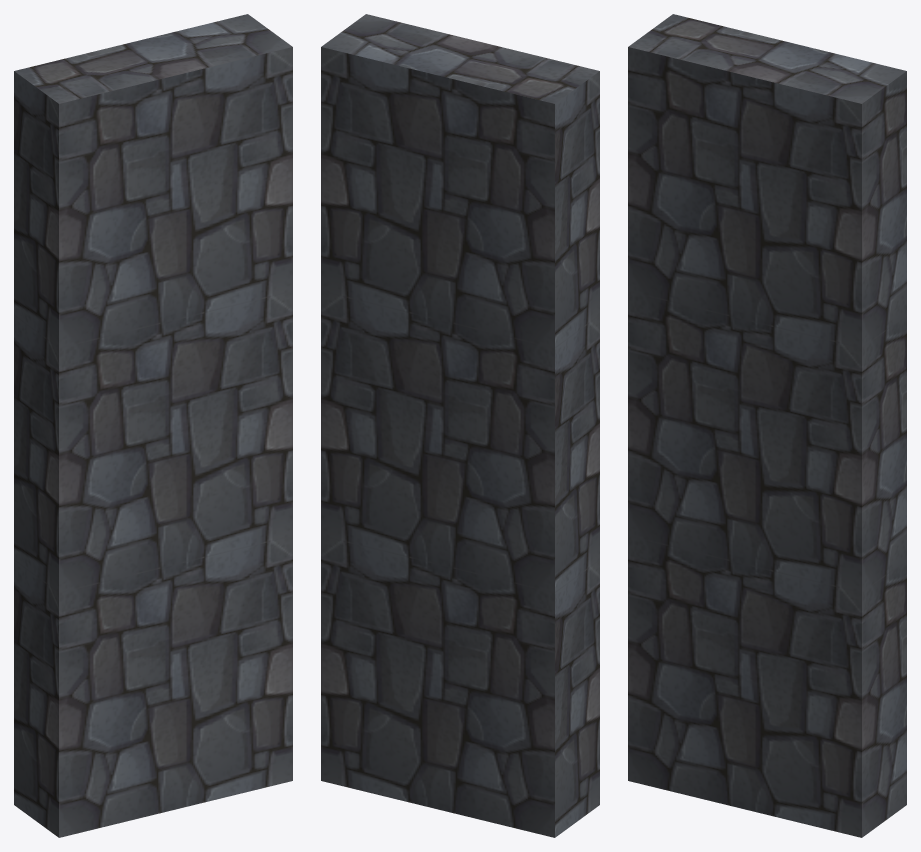
File: wall_normal.fbx
The picture shows the model from 3 angles, left to right: view 1: azimuth 30°, elevation 25°; view 2: azimuth 150°, elevation 25°; view 3: azimuth 330°, elevation 25°; orthographic projection.
Parts seen in each view (by area): view 1: Cube.027; view 2: Cube.027; view 3: Cube.027.
Part boxes in pixels (x1,y1,x2,y2): Cube.027: (14, 14, 292, 837); Cube.027: (321, 14, 599, 837); Cube.027: (628, 14, 906, 837).
Size of the model in its own units: 2 by 0.6667 by 6.
